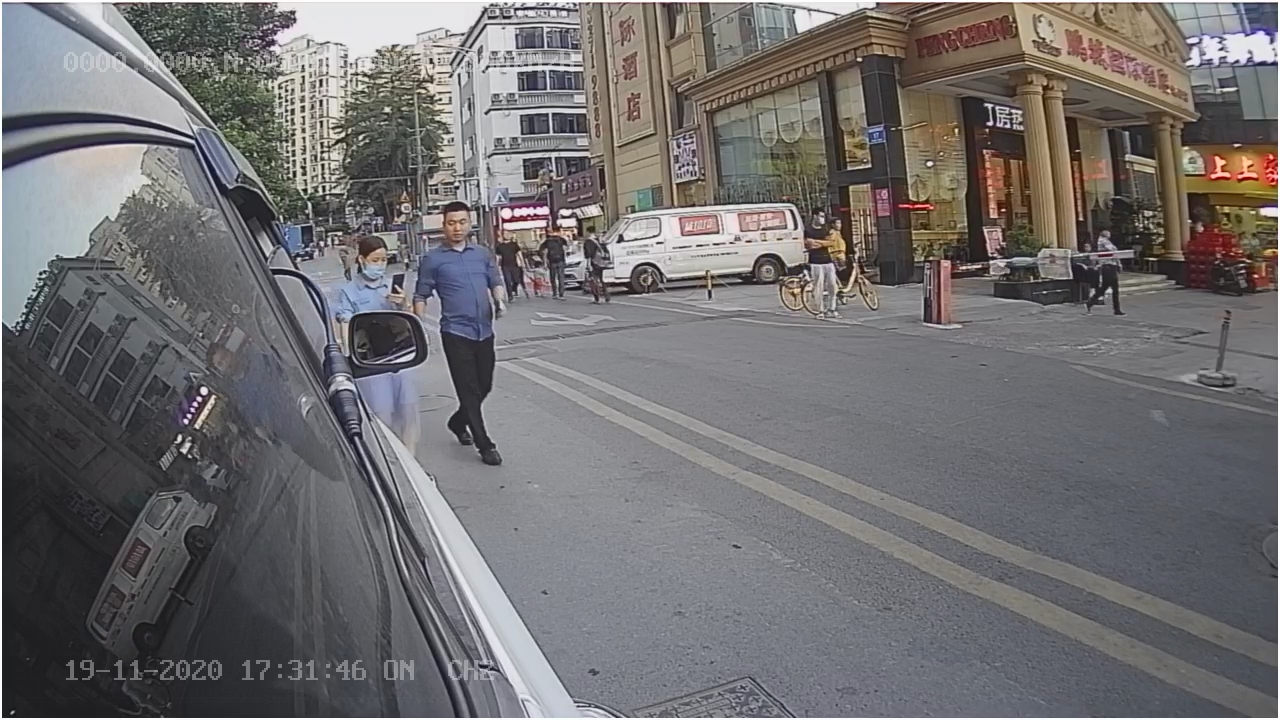person: (417, 199, 509, 302)
